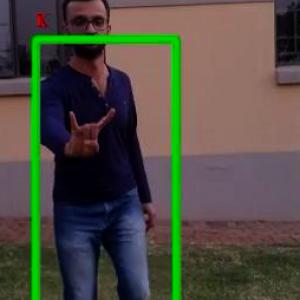takeoff-hand: (51, 94, 123, 172)
